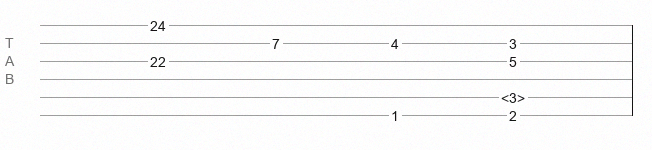1: (391, 108, 399, 118)
2: (509, 108, 517, 118)
22: (150, 54, 166, 64)
24: (150, 18, 166, 28)
3: (509, 36, 517, 46)
4: (391, 36, 399, 46)
5: (509, 54, 517, 64)
7: (272, 36, 280, 46)
harmonic: (501, 90, 525, 100)
